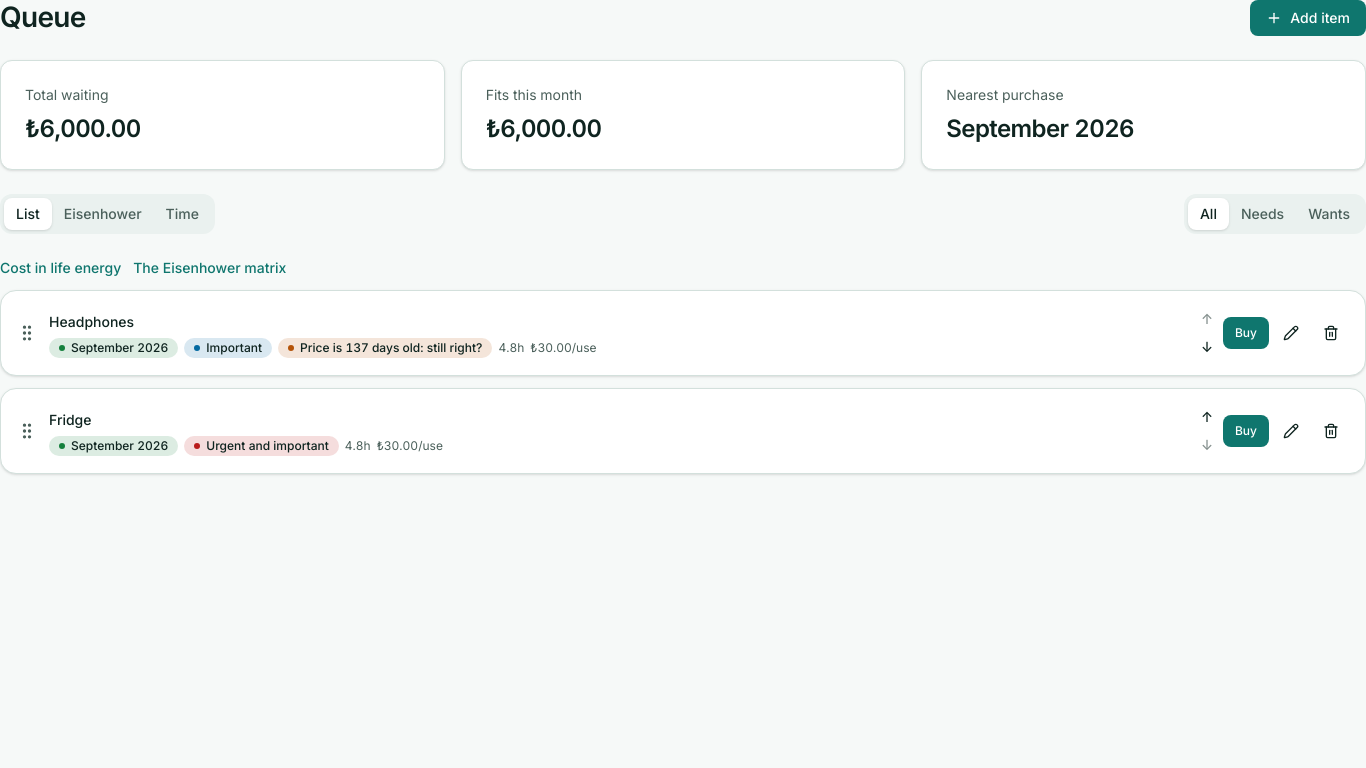
Test: Queue price age › asks whether an old price is still right, and opens the item to fix it
Click the button with test id "stale-h" at coordinates (385, 348), box [278, 338, 492, 358]
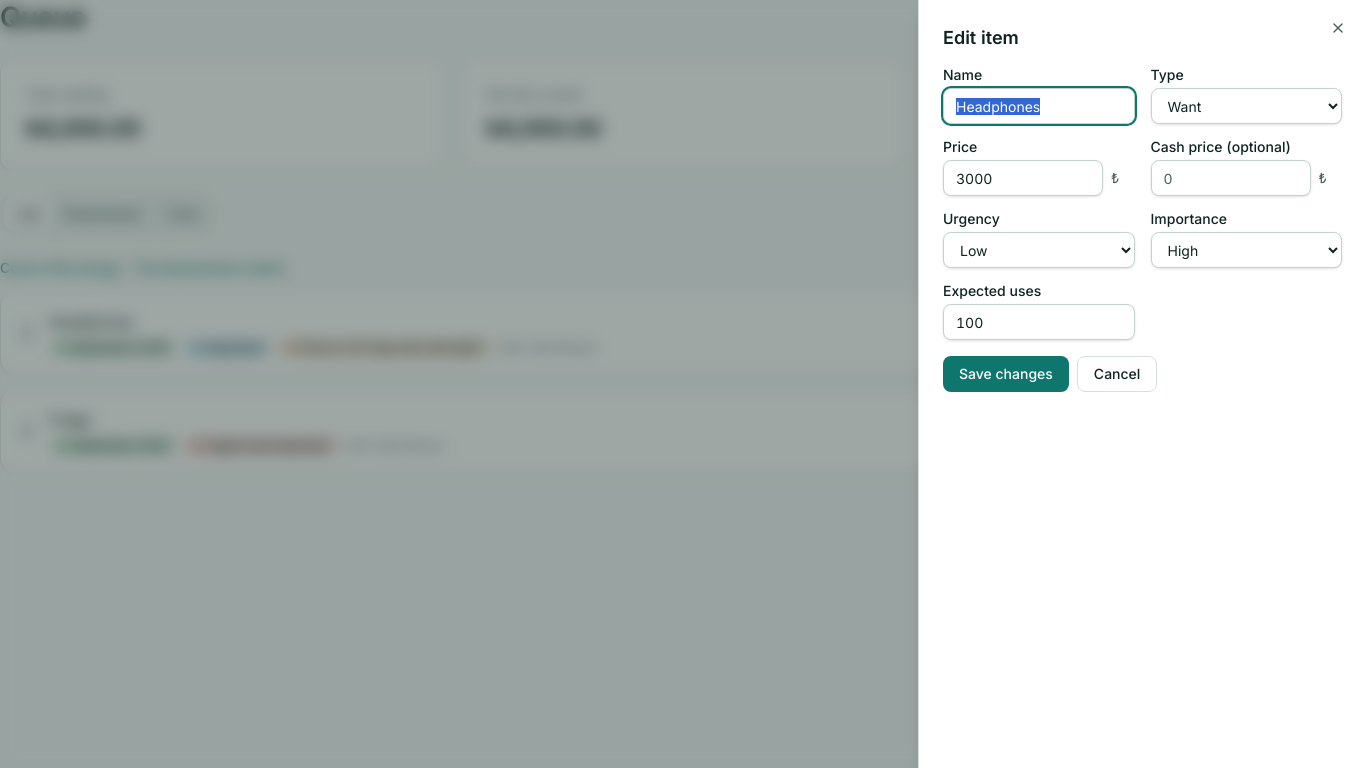
Expected: the field labelled "Name" holds "Headphones", [943, 88, 1134, 124]
